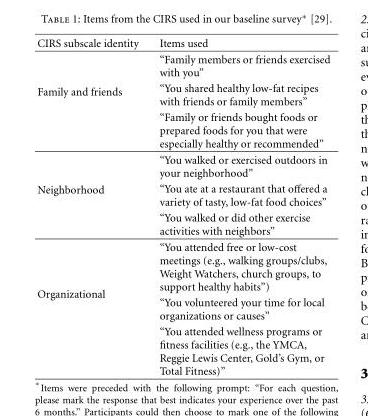table: (36, 36, 329, 376)
table column: (148, 36, 329, 376), (36, 36, 148, 376)
table column header: (36, 36, 329, 50)
table row: (36, 238, 329, 294), (36, 323, 329, 376), (36, 108, 329, 151), (36, 50, 329, 80), (36, 151, 329, 180), (36, 180, 329, 209), (36, 209, 329, 238), (36, 294, 329, 323), (36, 80, 329, 108), (36, 36, 329, 50)
table spanning cell: (36, 238, 148, 376), (36, 50, 148, 151), (36, 151, 148, 238)
